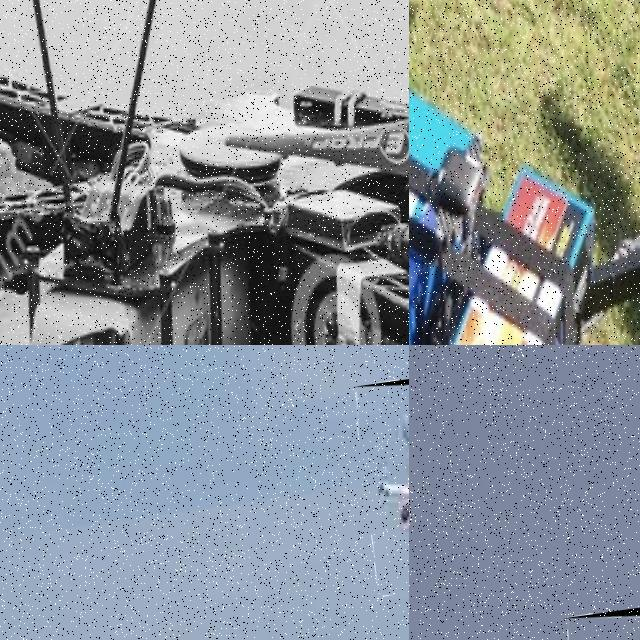0: (351, 366, 409, 597)
drone: (0, 0, 409, 345), (409, 0, 640, 345)
